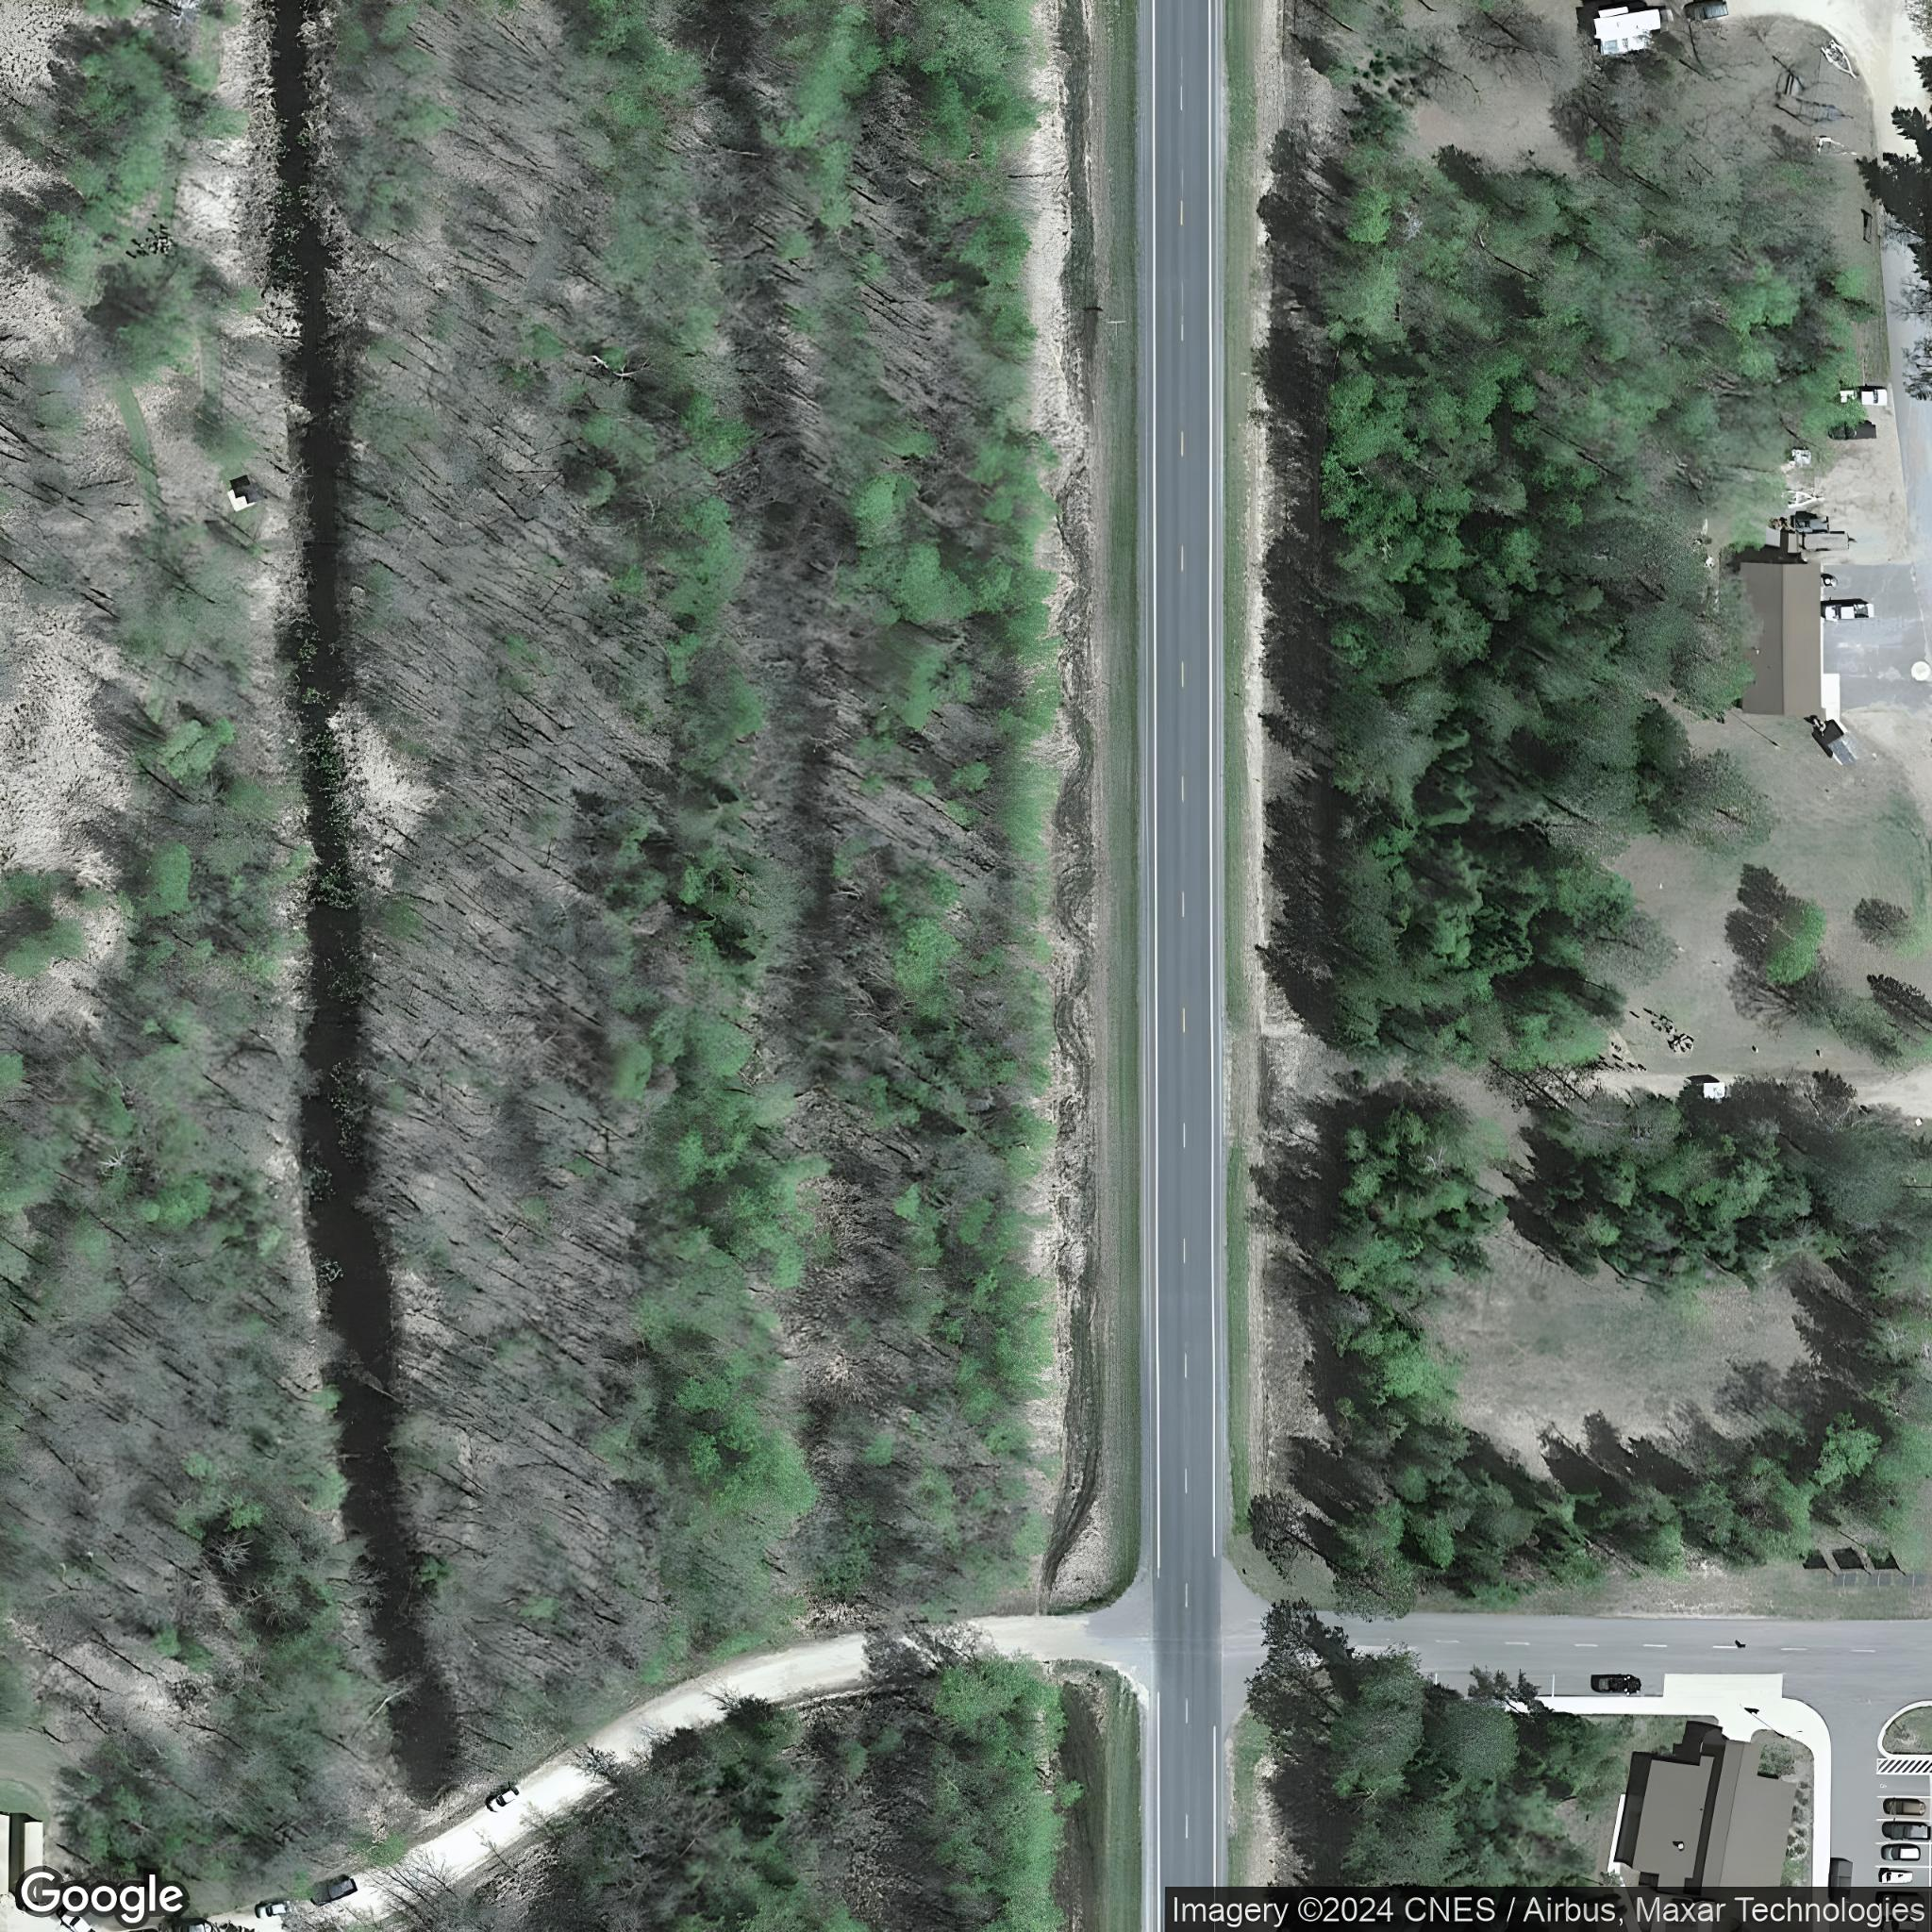House: (1631, 1739, 1798, 1886), (1734, 557, 1826, 718)
